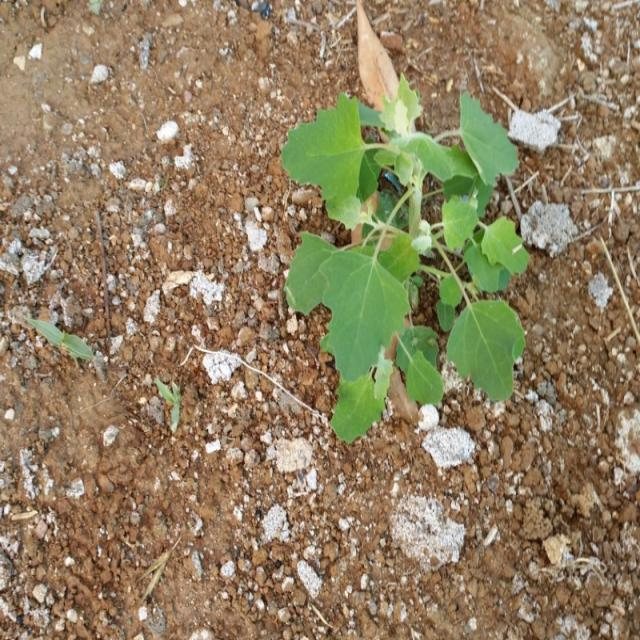ca: (280, 94, 533, 449)
